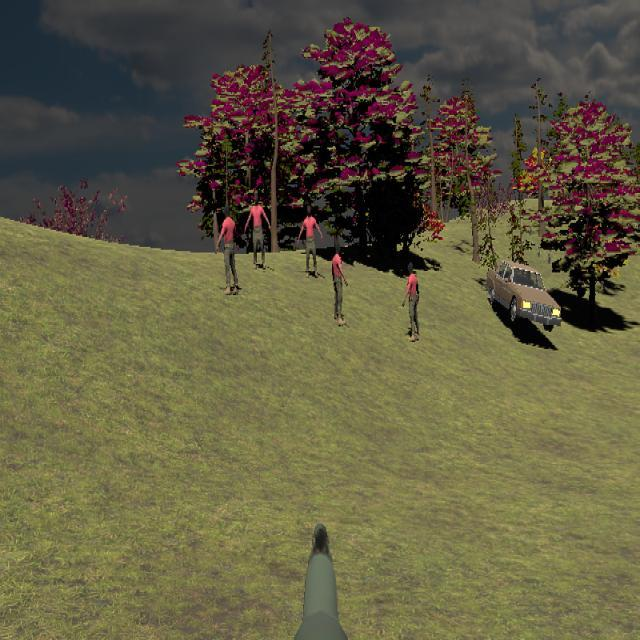Human: (245, 192, 272, 270), (216, 205, 239, 295), (298, 204, 324, 278), (404, 262, 420, 341), (333, 241, 347, 326)
car: (487, 261, 561, 330)
